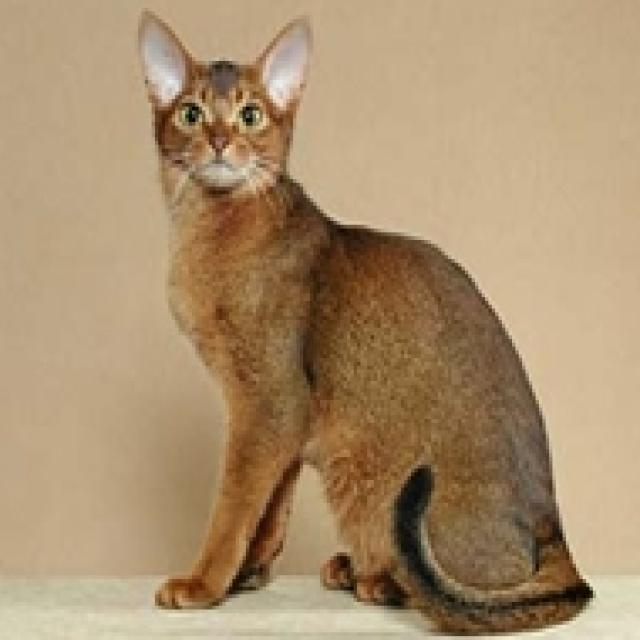Abyssinian: (135, 11, 321, 207)
